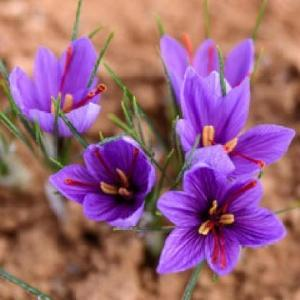Saffron: (163, 168, 288, 276), (182, 76, 286, 178), (46, 136, 157, 226), (9, 36, 106, 134)
